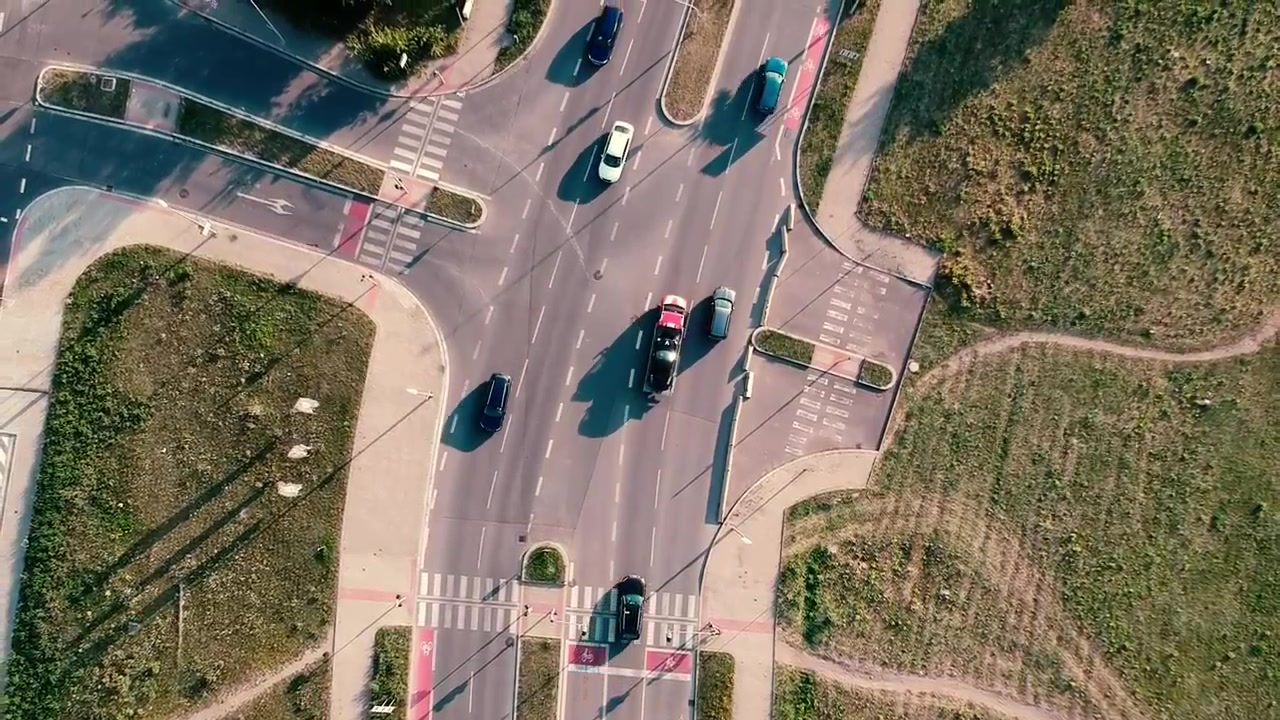car: (640, 292, 695, 399), (595, 120, 636, 185), (585, 5, 627, 68), (475, 371, 515, 436), (751, 53, 792, 116), (612, 574, 649, 643), (704, 285, 738, 343)
